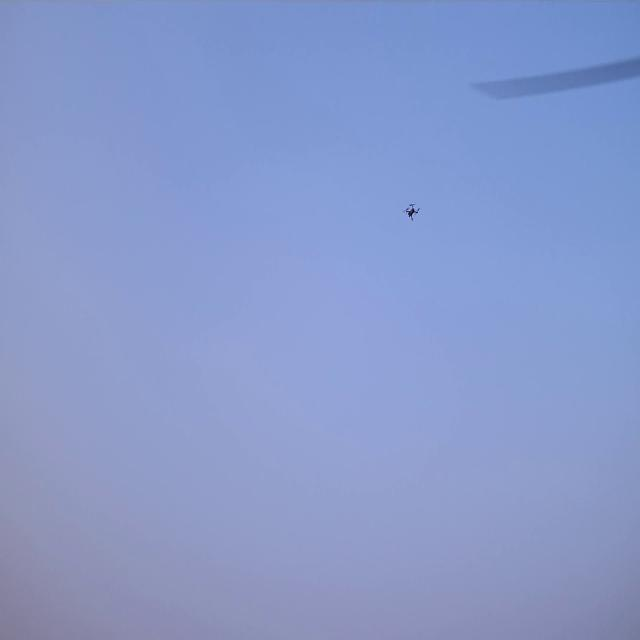UAV: (406, 204, 418, 220)
